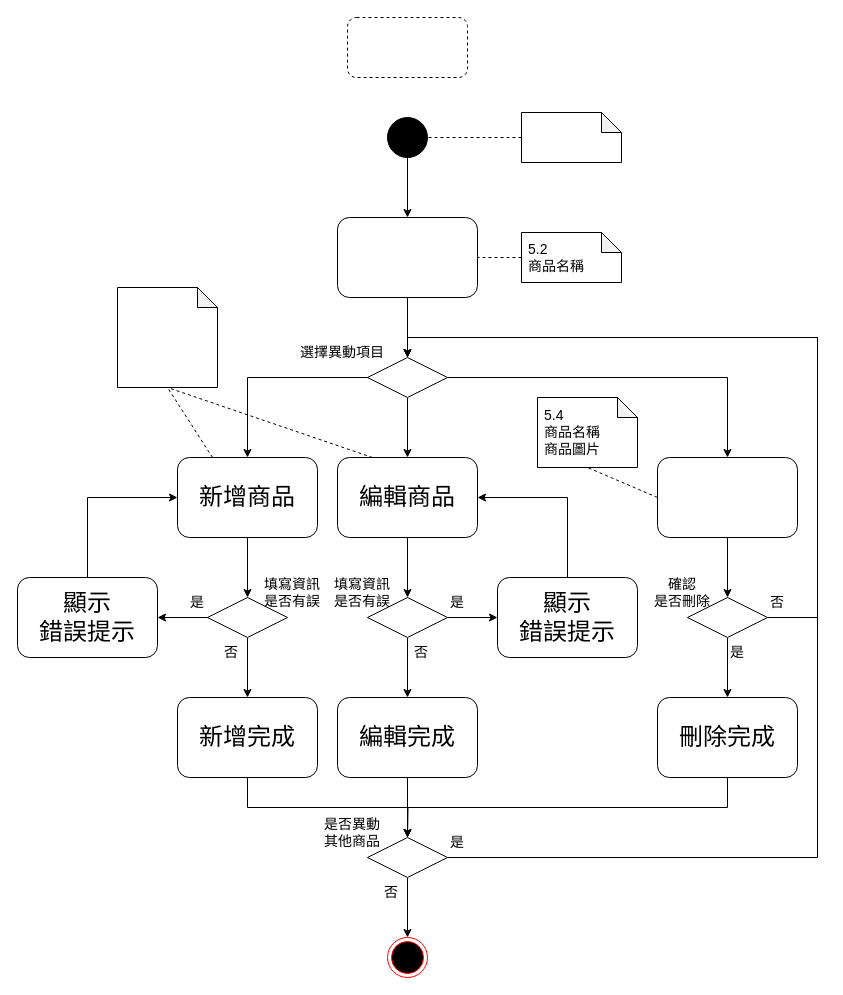
The diagram is 843 pixels wide and 995 high, and some of its shapes have lost their labels. Each missing label, with the box of its shape:
5.1 需要先登入: (520, 112, 622, 162)
5.3 商品名稱 商品圖片 商品售價 單位: (116, 286, 218, 388)
刪除商品: (656, 456, 798, 538)
商品管理: (346, 16, 468, 78)
顯示 所有 商品: (336, 216, 478, 298)
